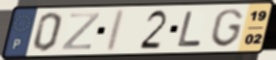0: (31, 11, 65, 54)
2: (139, 9, 170, 51)
G: (209, 7, 245, 49)
I: (103, 8, 128, 54)
L: (176, 10, 204, 49)
Z: (59, 11, 102, 52)
